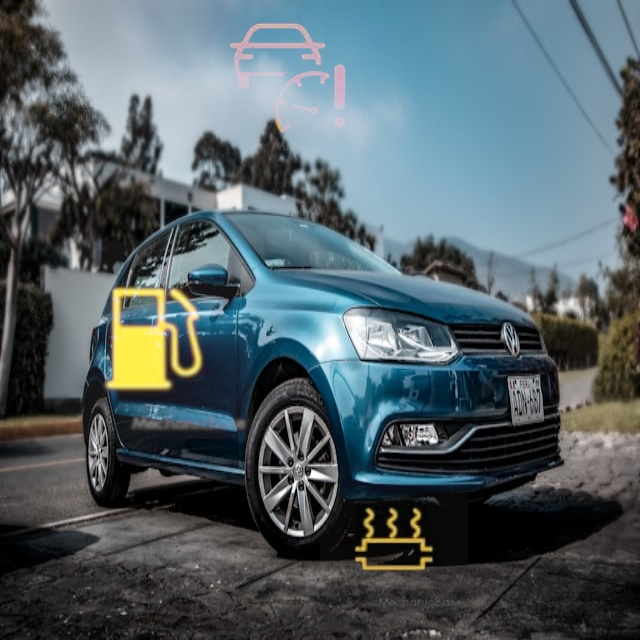symbol: (55, 241, 253, 439), (209, 0, 366, 157), (320, 466, 468, 614)
